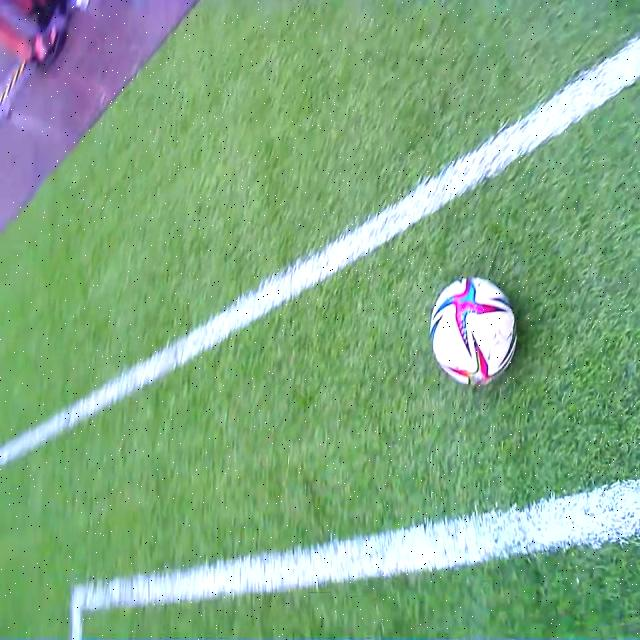ball: (432, 276, 515, 384)
